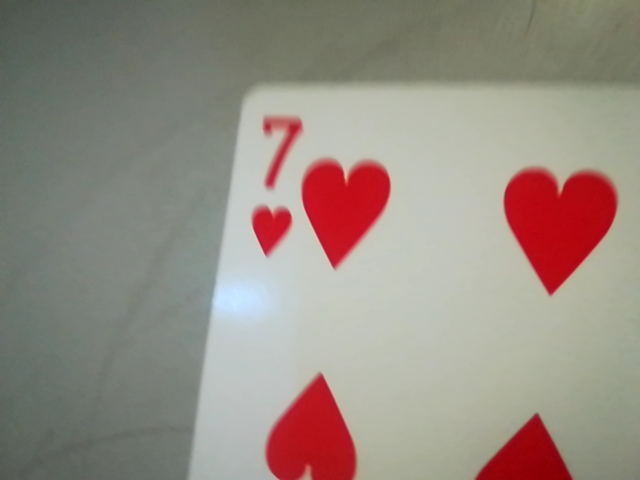hx 7: (233, 99, 306, 270)
